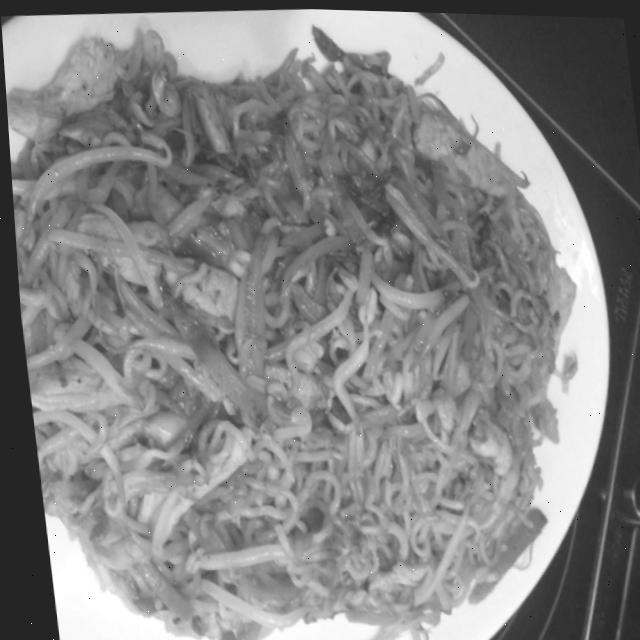面条主食: (1, 21, 627, 638)
